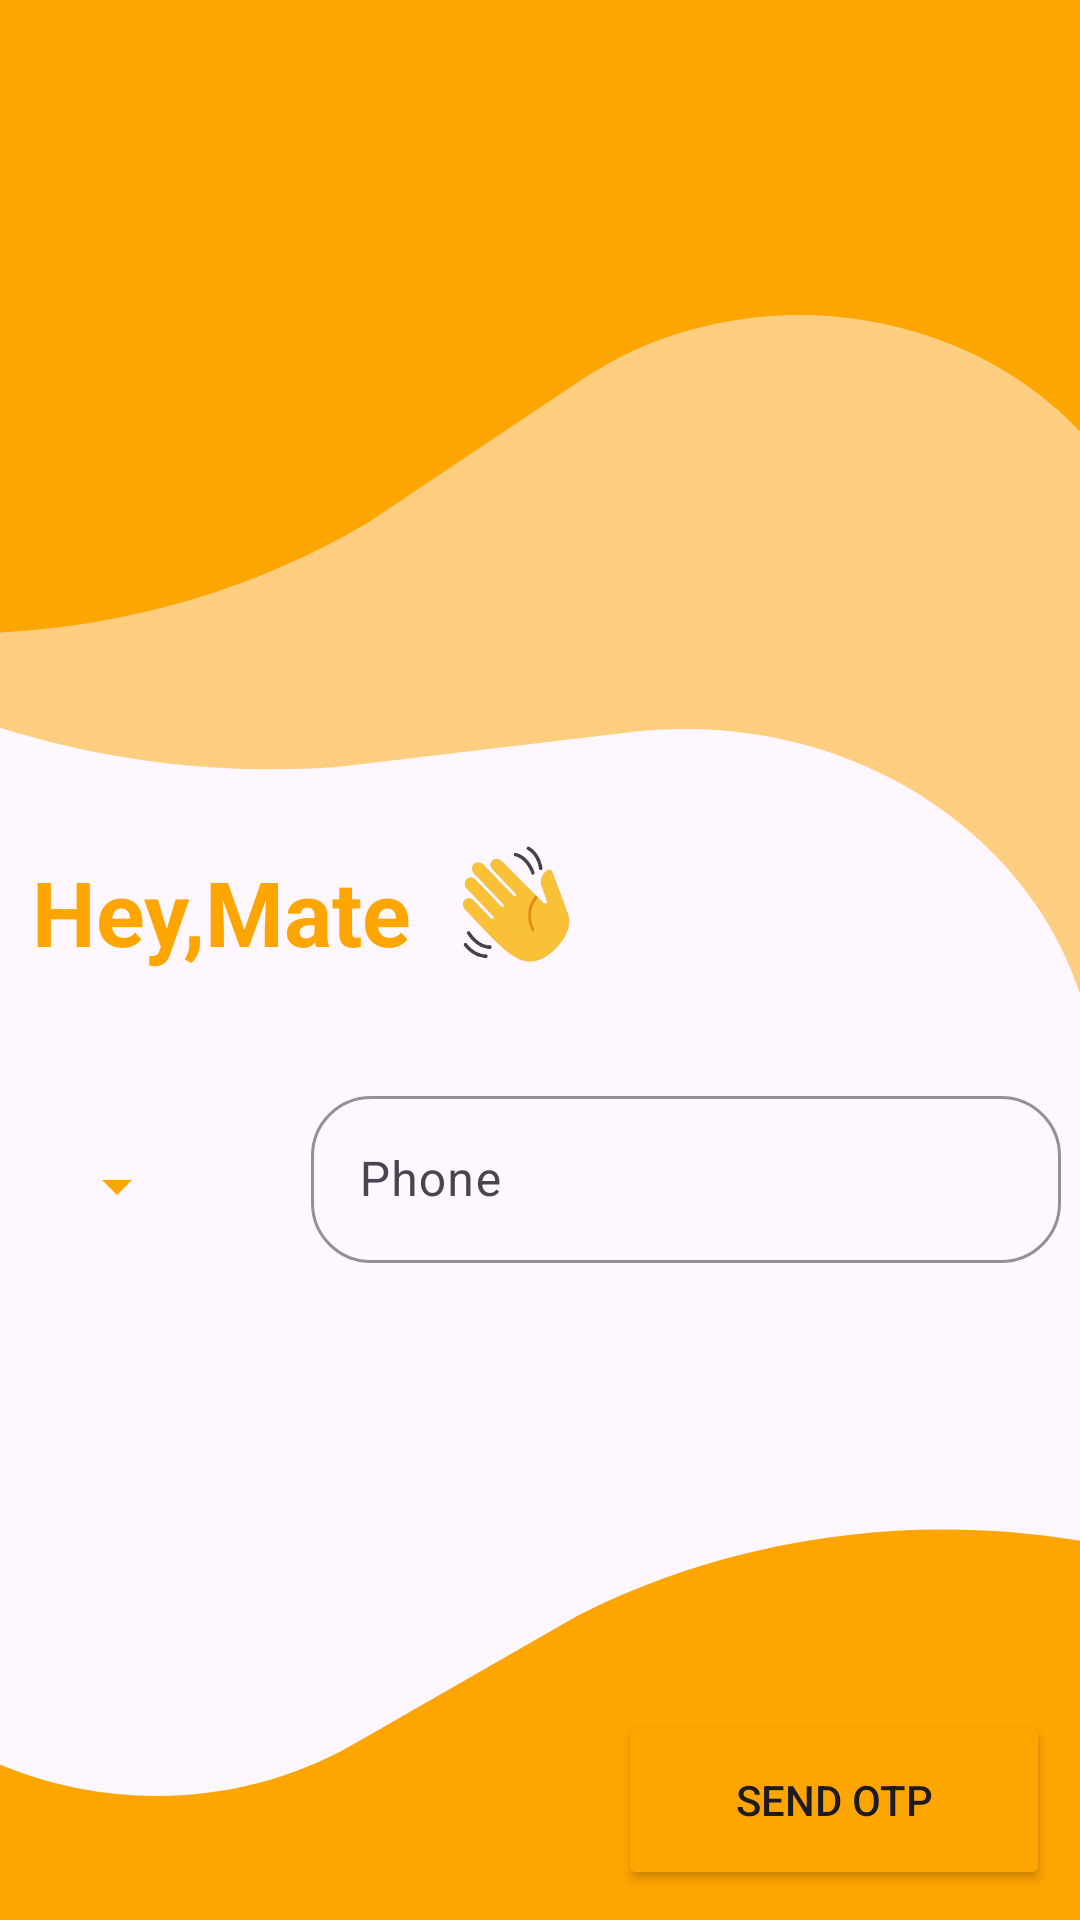

Screen size 1080 × 1920. Icon name, then its box in pixels as (x1, y1, x2, y2):
high five: (463, 846, 569, 962)
